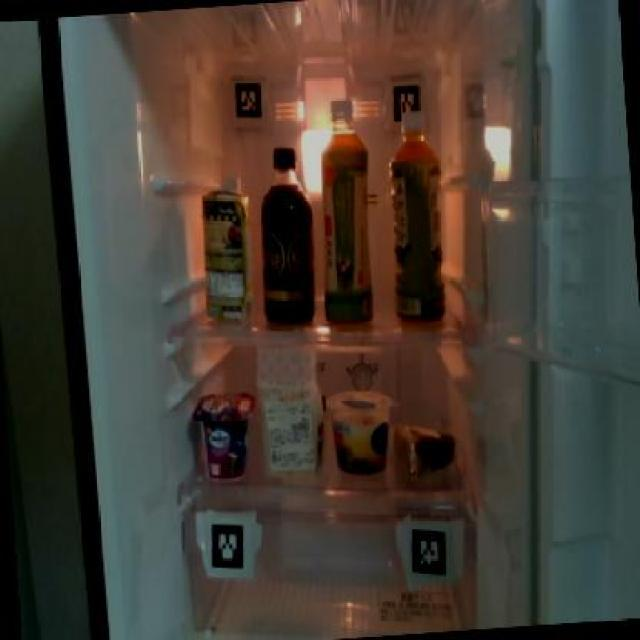coffee: (252, 144, 320, 326)
pudding: (322, 386, 395, 476)
rice_ball: (392, 418, 459, 484)
sandwich: (254, 338, 328, 480)
smoothie: (195, 173, 254, 321)
tea_a: (378, 115, 447, 323)
tea_i: (308, 96, 380, 327)
yogurt: (192, 388, 258, 484)
